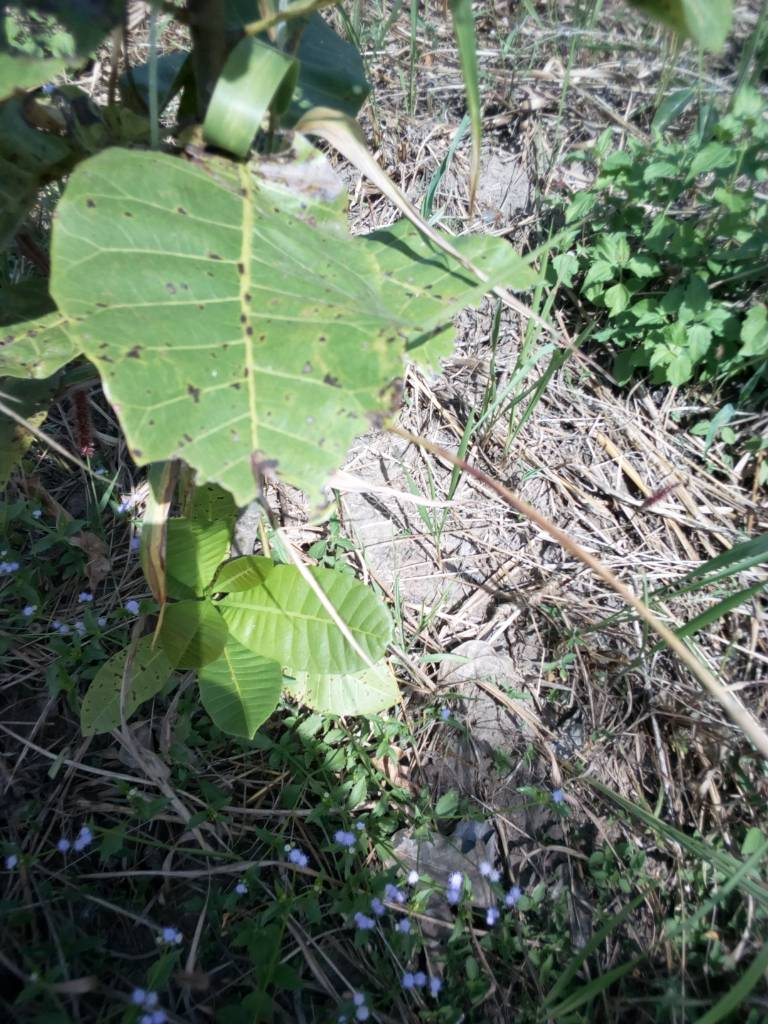Anthracnose: (47, 149, 421, 511)
